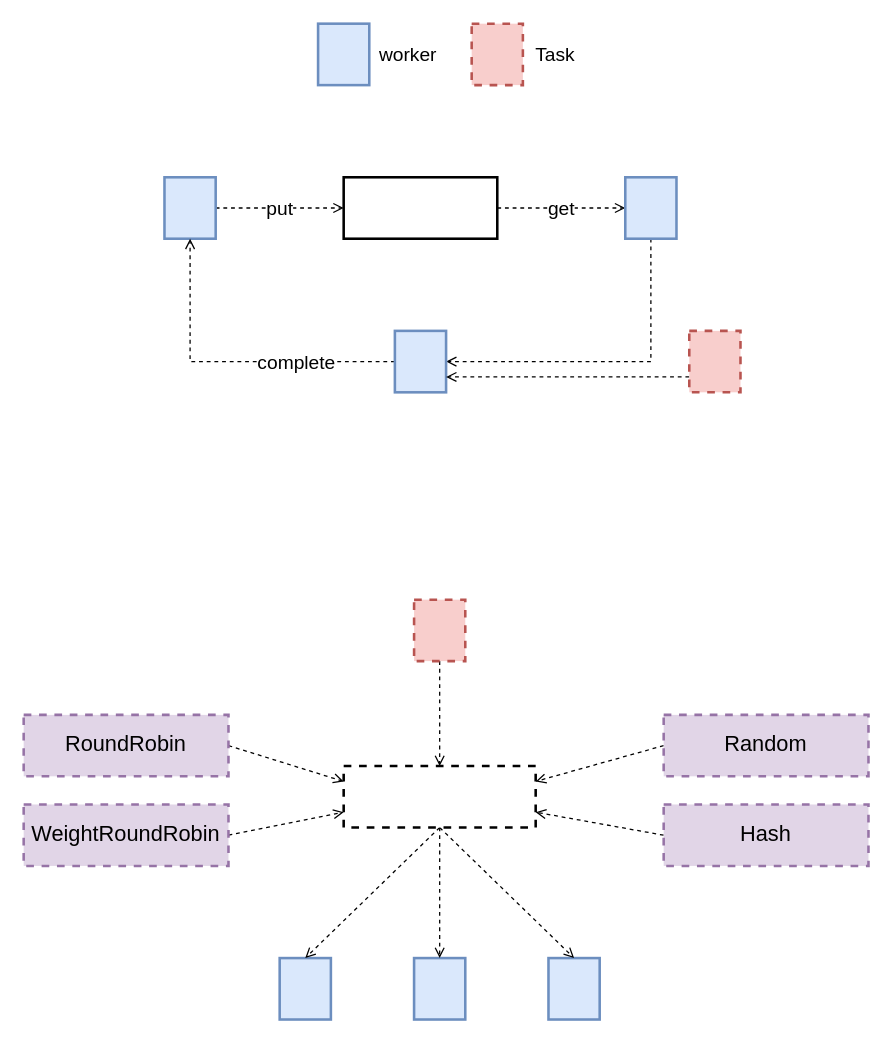
This 891x1042 diagram has some shape labels left out. The centre of each missing label's shape, as x and y in pixels:
"Pool" goes at pixel 420 207.
"ScheduleFunc" goes at pixel 439 796.
